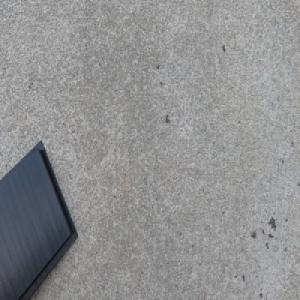PlasticPart: (0, 134, 80, 300)
